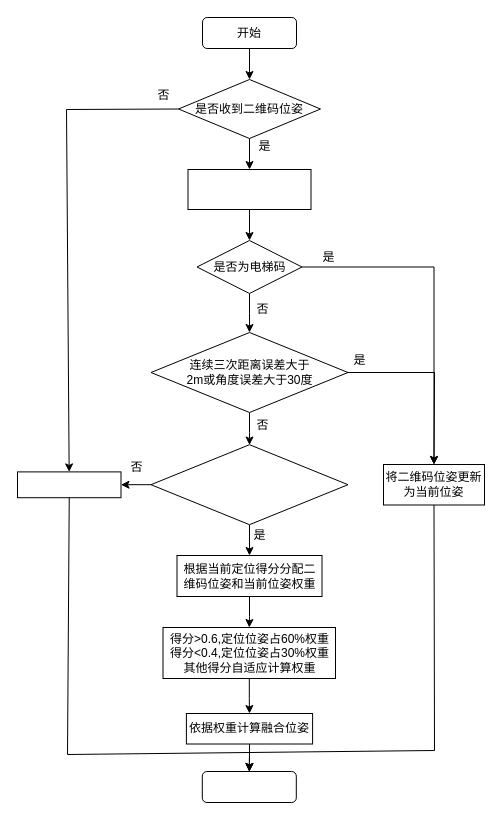
Image size: 502x820. Some labels were removed from this diagram. The centre of each missing label's shape, as x and y in pixels:
不更新当前位姿: (x=68, y=484)
结束: (x=248, y=786)
计算当前位姿和二维码位姿距离差和角度差值: (x=249, y=189)
连续三次距离误差大于 0.5m 或角度误差大于20度: (x=249, y=484)
